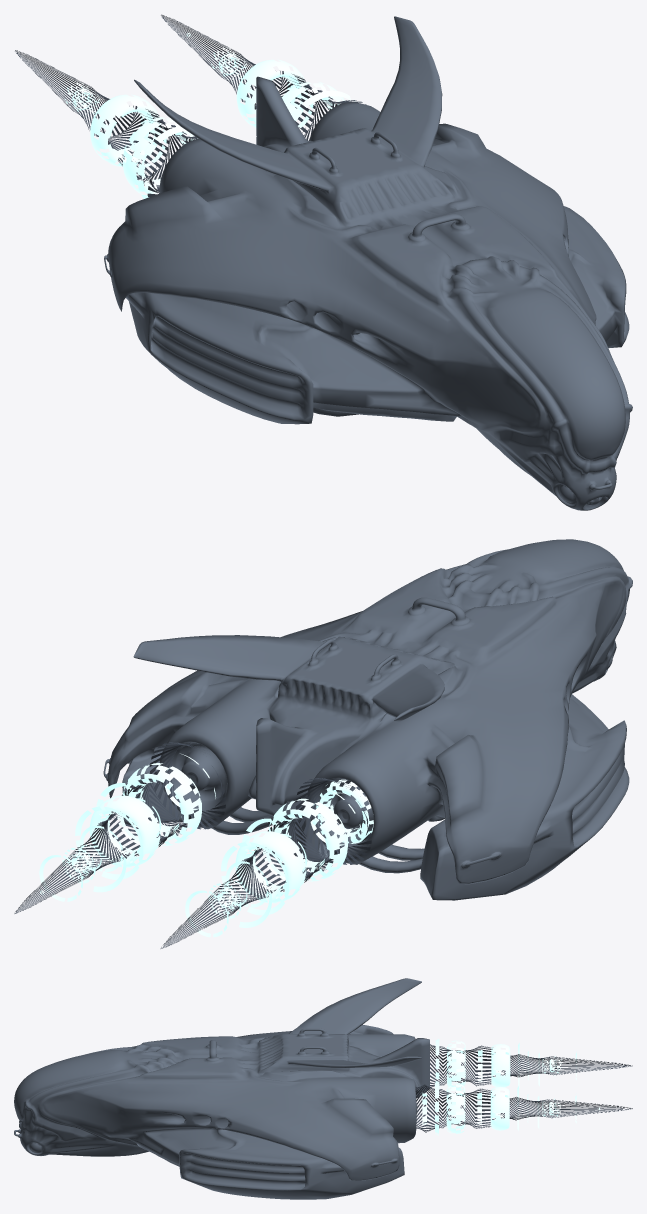
File: ship.glb
3 views of the same model, one above another, from view 1: azimuth 30°, elevation 25°; view 2: azimuth 150°, elevation 25°; view 3: azimuth 270°, elevation 25° (orthographic). The views are drawn at different scales.
Parts seen in each view (by area): view 1: Intergalactic_Spaceships_Version_2, Circle, Circle.001, Torus.002_Torus.007, Torus.003_Torus.008, Torus.006_Torus.001, Torus.005_Torus.002; view 2: Intergalactic_Spaceships_Version_2, Circle, Torus.002_Torus.007, Circle.001, Torus.006_Torus.001, Torus.003_Torus.008, Torus.005_Torus.002, Torus.004; view 3: Intergalactic_Spaceships_Version_2, Circle.001, Circle, Torus.005_Torus.002, Torus.006_Torus.001, Torus.002_Torus.007, Torus.003_Torus.008.
Part boxes in pixels (x1,y1,x2,y2): Intergalactic_Spaceships_Version_2: (104,16,632,510); Circle: (15,50,197,196); Circle.001: (161,14,366,140); Torus.002_Torus.007: (90,94,160,166); Torus.003_Torus.008: (123,117,197,198); Torus.006_Torus.001: (236,59,307,127); Torus.005_Torus.002: (281,82,355,127); Intergalactic_Spaceships_Version_2: (103,539,632,900); Circle: (160,778,371,948); Torus.002_Torus.007: (185,818,306,937); Circle.001: (14,742,225,913); Torus.006_Torus.001: (39,783,161,901); Torus.003_Torus.008: (263,789,361,881); Torus.005_Torus.002: (117,753,215,845); Torus.004: (316,779,373,843); Intergalactic_Spaceships_Version_2: (14,978,429,1199); Circle.001: (415,1084,632,1132); Circle: (430,1044,632,1087); Torus.005_Torus.002: (422,1081,481,1135); Torus.006_Torus.001: (480,1086,576,1130); Torus.002_Torus.007: (481,1043,576,1088); Torus.003_Torus.008: (435,1039,482,1091).
Size of the model in its own units: 5.98 by 3.1 by 12.64.
